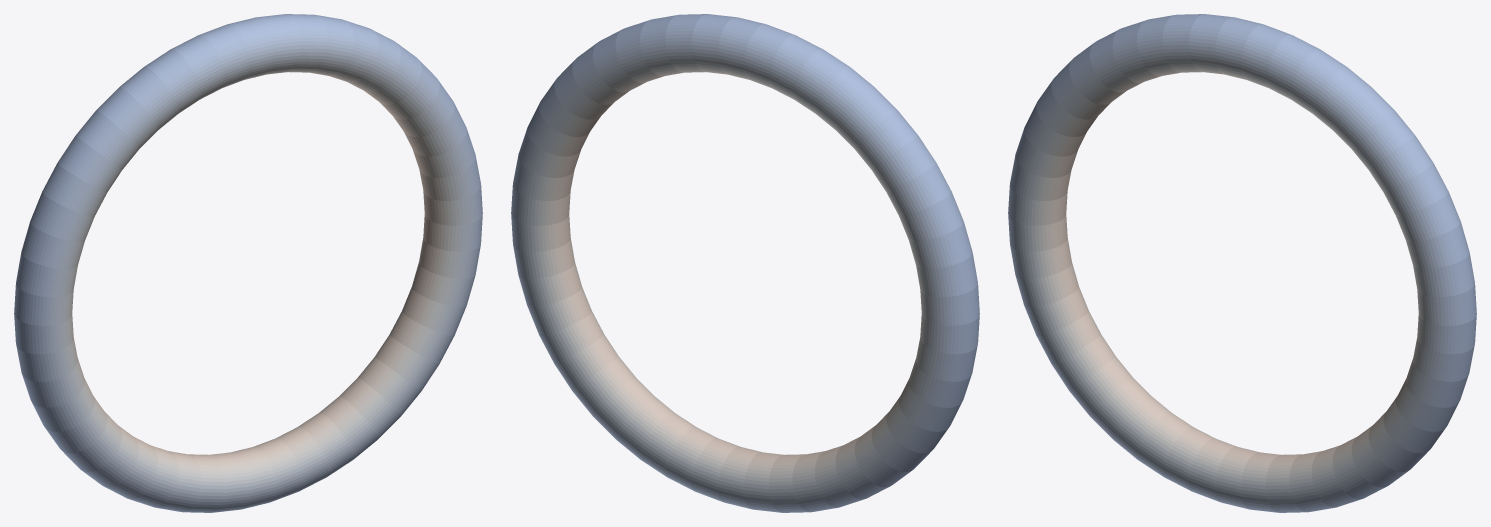
The picture shows the model from 3 angles, left to right: view 1: azimuth 30°, elevation 25°; view 2: azimuth 150°, elevation 25°; view 3: azimuth 330°, elevation 25°; orthographic projection.
Parts seen in each view (by area): view 1: world; view 2: world; view 3: world.
Boxes of the visible parts, x1=… form: world: x1=14, y1=14, x2=482, y2=512; world: x1=511, y1=14, x2=979, y2=512; world: x1=1008, y1=14, x2=1476, y2=512.
Bounding box in the file's own units: 32.93 × 32.87 × 3.59.
